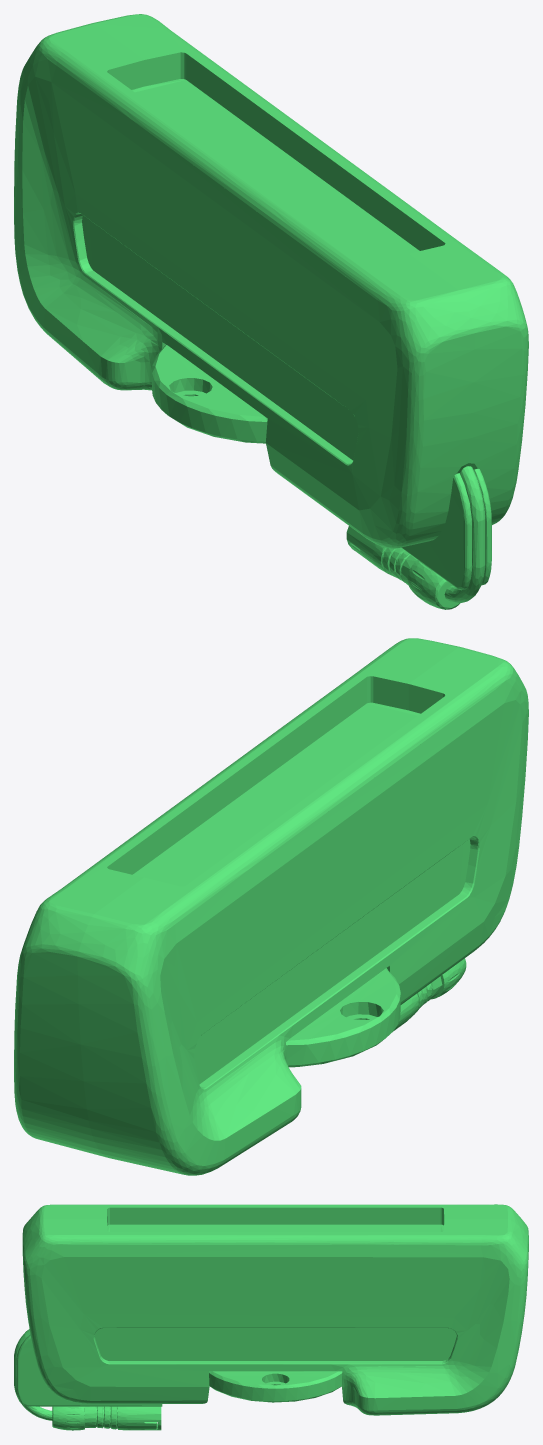
The model's file is hand.dae.
The picture shows the model from 3 angles, top to bottom: view 1: azimuth 30°, elevation 25°; view 2: azimuth 150°, elevation 25°; view 3: azimuth 270°, elevation 25°; orthographic projection. The views are drawn at different scales.
Visible parts, largest first — view 1: node5, node5_001, node2, node0, node1; view 2: node5, node5_001, node2, node0; view 3: node5, node5_001, node2, node0, node1.
Part boxes in pixels (bbox=[...]): node5: bbox=[14, 14, 528, 590]; node5_001: bbox=[82, 215, 358, 460]; node2: bbox=[152, 344, 267, 443]; node0: bbox=[346, 526, 459, 609]; node1: bbox=[444, 466, 485, 603]; node5: bbox=[14, 638, 528, 1175]; node5_001: bbox=[194, 839, 470, 1084]; node2: bbox=[286, 968, 400, 1067]; node0: bbox=[393, 958, 466, 1031]; node5: bbox=[16, 1204, 528, 1415]; node5_001: bbox=[94, 1328, 456, 1360]; node2: bbox=[209, 1371, 342, 1402]; node0: bbox=[52, 1406, 161, 1430]; node1: bbox=[14, 1329, 52, 1420].
Size of the model in its own units: 0.063 by 0.2045 by 0.0919.
